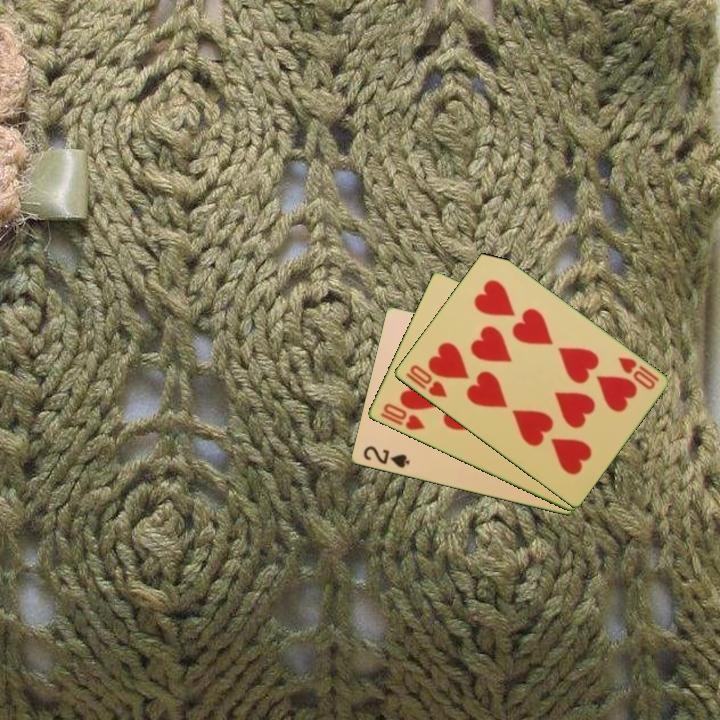10h: (614, 353, 662, 393), (406, 361, 450, 401), (379, 400, 428, 433)
2s: (360, 442, 412, 471)
